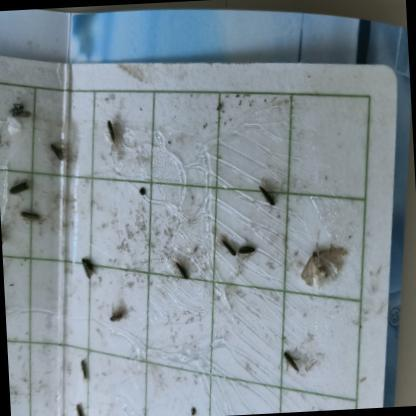prays_oleae: (293, 235, 351, 292), (74, 244, 102, 284), (211, 228, 238, 269), (1, 93, 32, 128), (277, 340, 304, 378), (3, 172, 34, 201), (102, 110, 122, 154), (168, 254, 197, 284), (258, 176, 282, 212), (73, 351, 97, 385), (20, 201, 50, 228), (108, 298, 130, 328), (238, 237, 260, 267), (70, 388, 91, 416), (50, 136, 65, 174)
